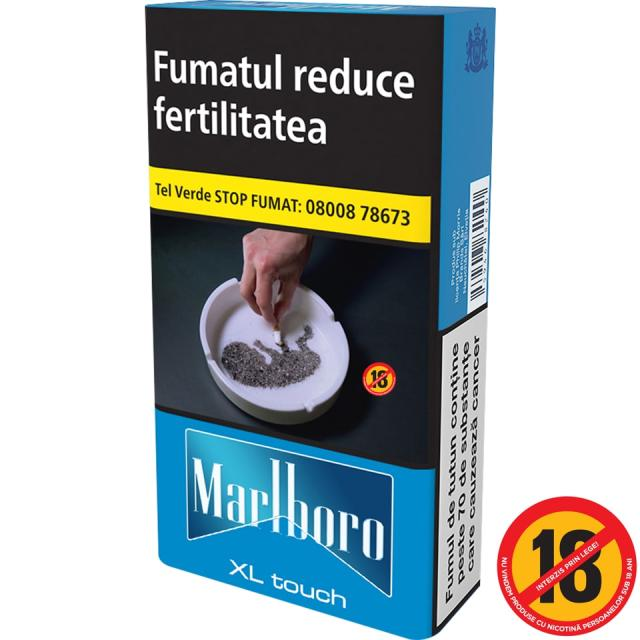marlboro: (145, 0, 488, 640)
